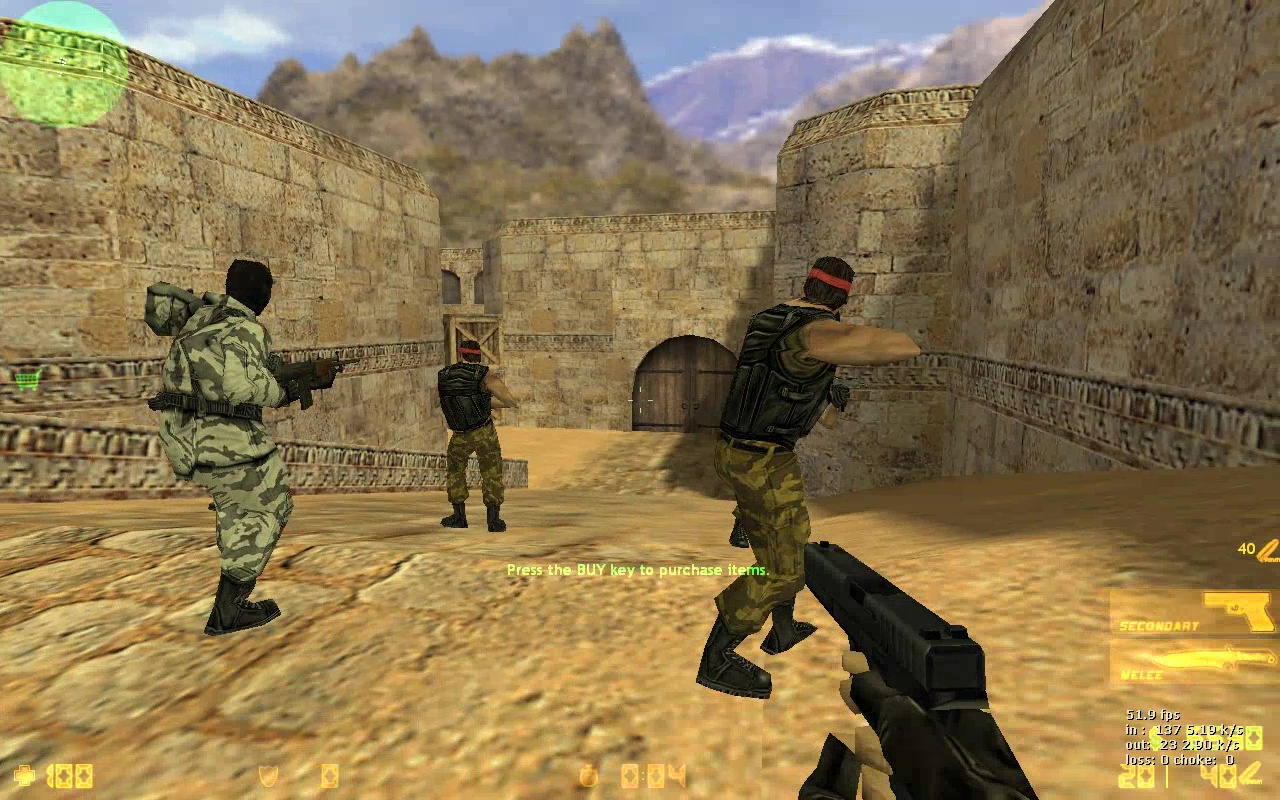terr1: (690, 255, 926, 700), (437, 339, 519, 532)
terr2: (141, 258, 346, 632)
